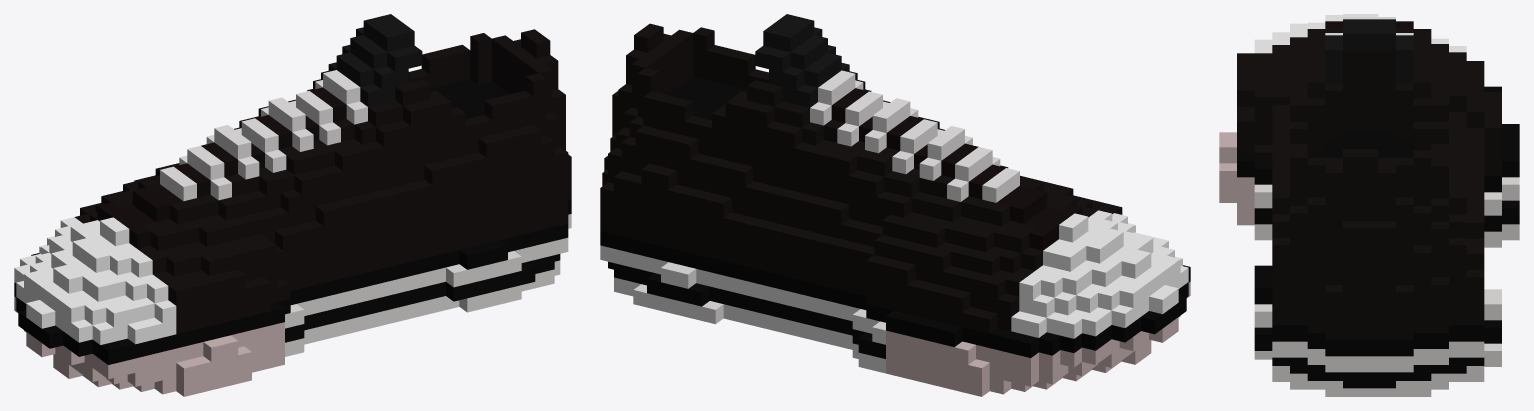
File: Classic.fbx
3 views of the same model, side by side, from view 1: azimuth 30°, elevation 25°; view 2: azimuth 150°, elevation 25°; view 3: azimuth 270°, elevation 25° (orthographic). The views are drawn at different scales.
Parts seen in each view (by area): view 1: Untitled; view 2: Untitled; view 3: Untitled.
Part boxes in pixels (x1,y1,x2,y2): Untitled: (14, 14, 571, 396); Untitled: (600, 14, 1190, 396); Untitled: (1219, 14, 1519, 396).
Bounding box in the file's own units: 390 × 180 × 170.
